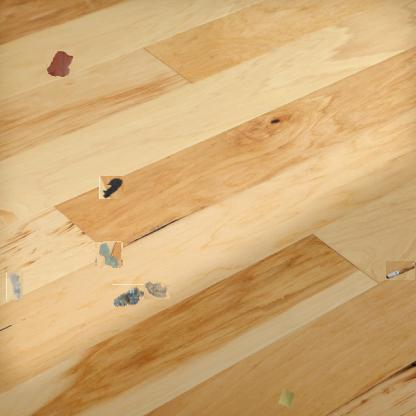dirty: (112, 284, 146, 309), (386, 260, 416, 280), (100, 175, 124, 200), (144, 279, 170, 299), (6, 274, 23, 302), (278, 387, 298, 409)
liquid: (46, 49, 74, 77), (96, 241, 122, 267)
